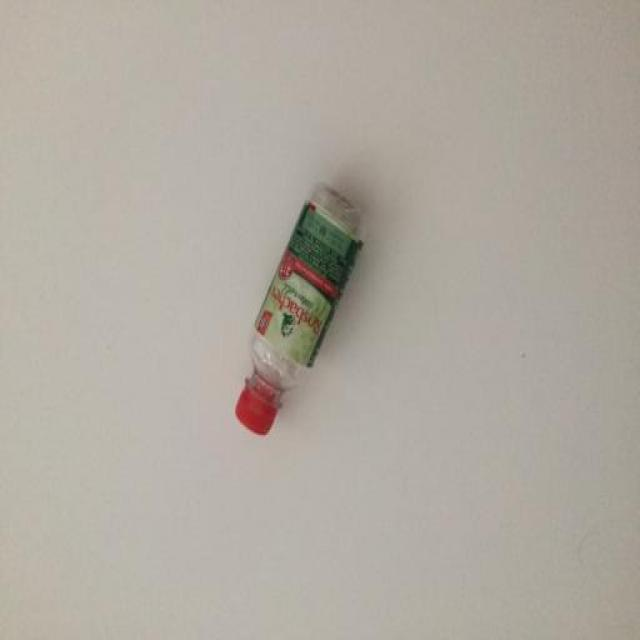plastic_bottle: (219, 141, 405, 478)
